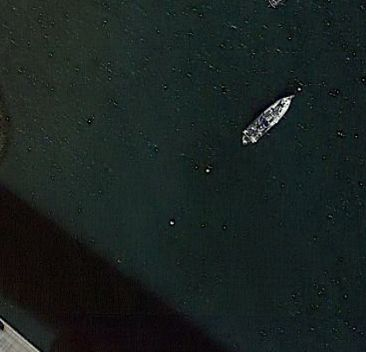boat: (243, 95, 296, 149)
